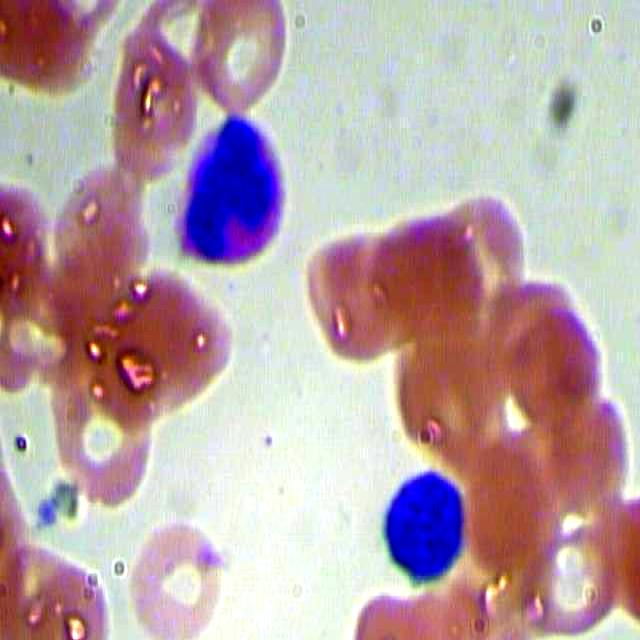RBC: (47, 350, 155, 514), (299, 233, 414, 375), (96, 28, 211, 169), (45, 159, 160, 300), (501, 306, 607, 434), (520, 512, 626, 640), (534, 393, 640, 520), (429, 187, 535, 313), (119, 525, 233, 639), (187, 2, 301, 114)
WBC: (167, 110, 296, 274), (375, 464, 471, 585)
